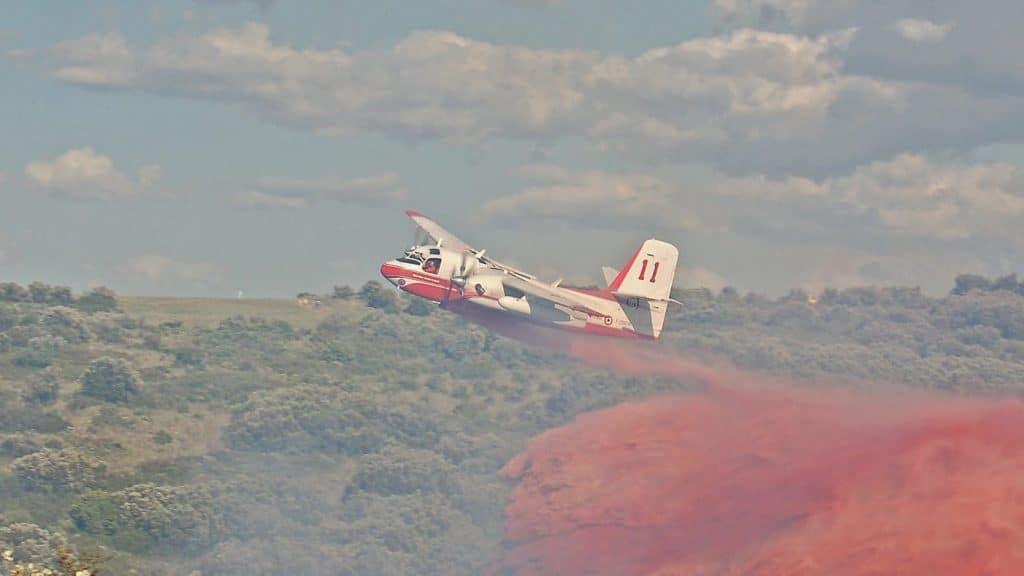Aeronef_de_service: (368, 202, 689, 355)
